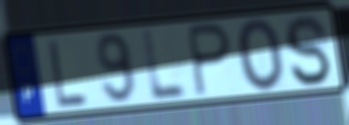9: (94, 30, 139, 106)
L: (140, 27, 190, 103), (46, 37, 90, 109)
O: (235, 16, 287, 95)
P: (186, 21, 234, 99)
S: (282, 13, 334, 89)
